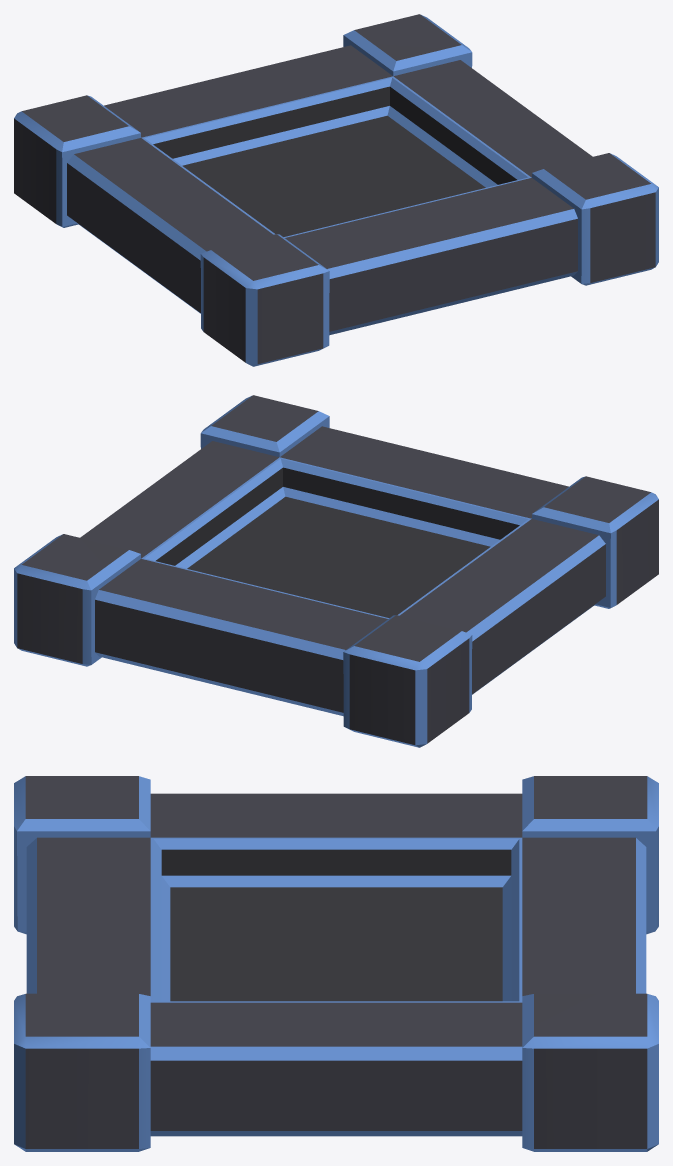
The model's file is PlataformaMovil.glb.
3 renders of one model, top to bottom at view 1: azimuth 30°, elevation 25°; view 2: azimuth 150°, elevation 25°; view 3: azimuth 270°, elevation 25°, orthographic. The views are drawn at different scales.
Visible parts, largest first — view 1: Cube; view 2: Cube; view 3: Cube.
Part boxes in pixels (x1,y1,x2,y2): Cube: (14, 14, 658, 366); Cube: (14, 395, 658, 747); Cube: (14, 776, 658, 1151).
Size of the model in its own units: 1.03 by 0.2051 by 1.04.
1 material, 1 textured.
